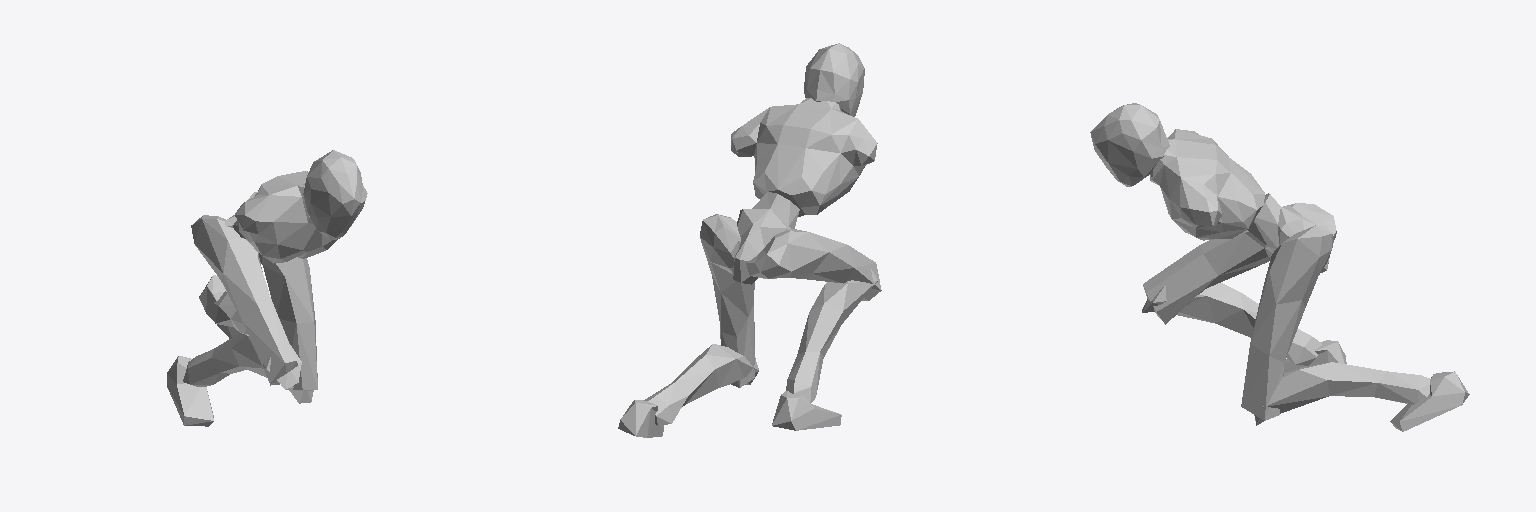
File: filth14.obj
3 renders of one model, left to right at view 1: azimuth 30°, elevation 25°; view 2: azimuth 150°, elevation 25°; view 3: azimuth 270°, elevation 25°, orthographic.
Visible parts, largest first — view 1: Melee_Husk; view 2: Melee_Husk; view 3: Melee_Husk.
Boxes of the visible parts, <box> form: Melee_Husk: <box>167,150,367,426</box>; Melee_Husk: <box>618,43,881,437</box>; Melee_Husk: <box>1090,103,1469,431</box>.
Bounding box in the file's own units: 22.19 × 45.13 × 50.15.